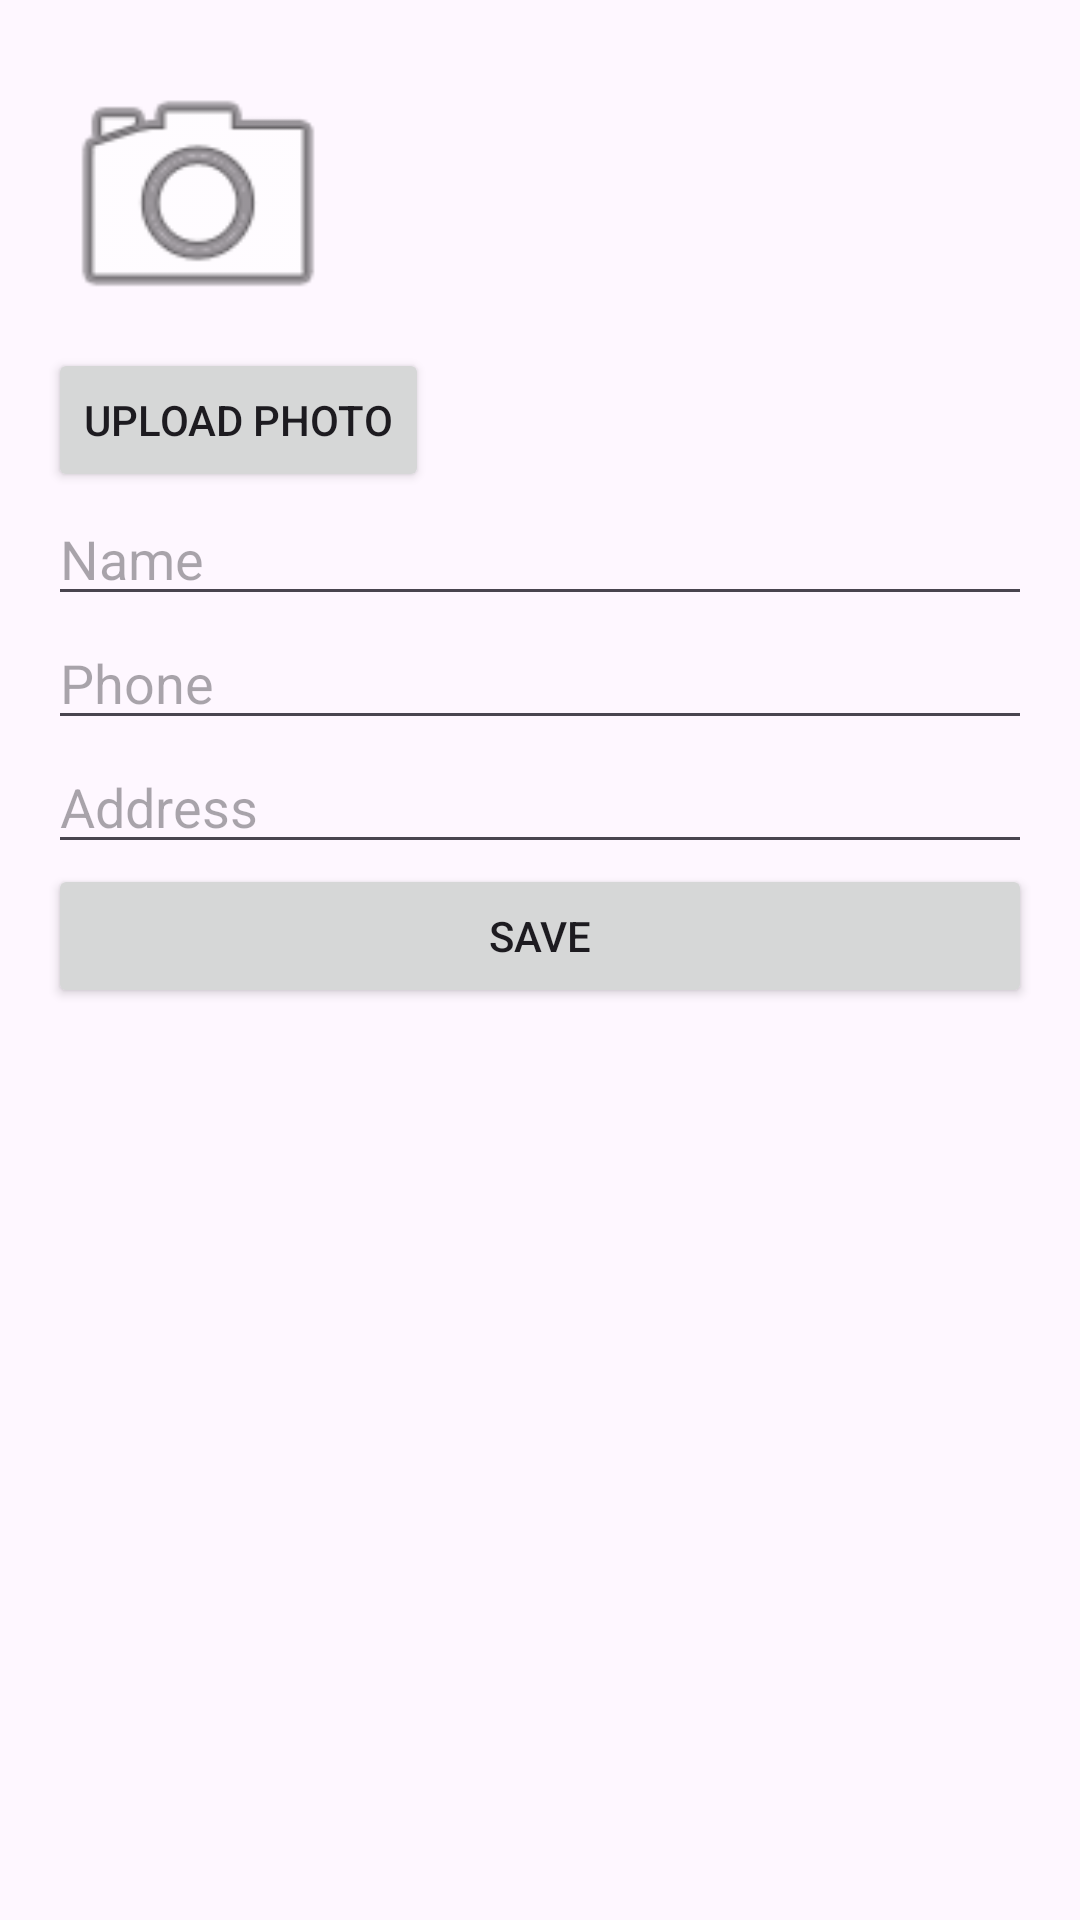

Where icons sit on this 1080px x 1920px app screen, as (x1, y1, x2, y2):
camera: (82, 101, 314, 286)
